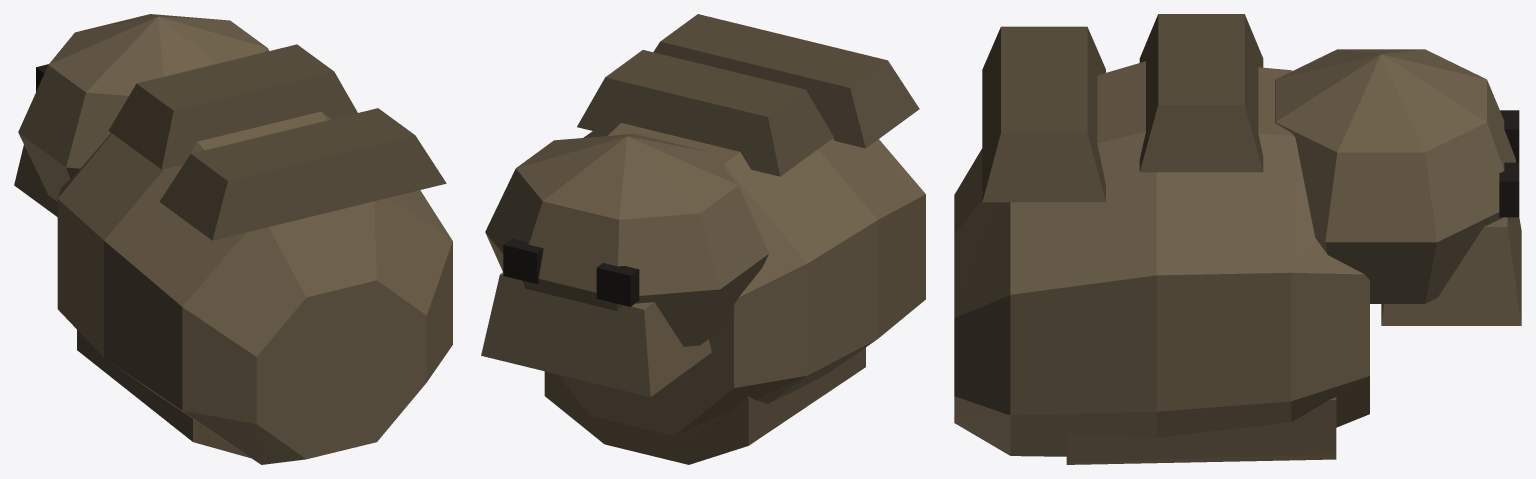
Rendered from animal_dryad_barkskin_bones.obj.
3 renders of one model, left to right at view 1: azimuth 30°, elevation 25°; view 2: azimuth 150°, elevation 25°; view 3: azimuth 270°, elevation 25°, orthographic. The views are drawn at different scales.
Bounding box in the file's own units: 0.4918 × 0.5188 × 0.6893.
